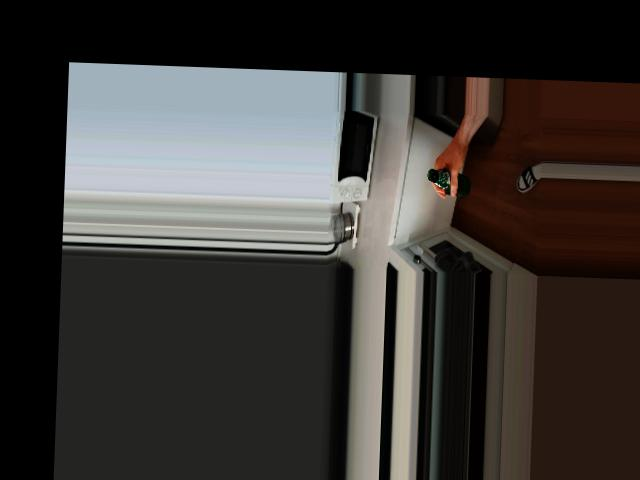beer: (427, 168, 472, 197)
